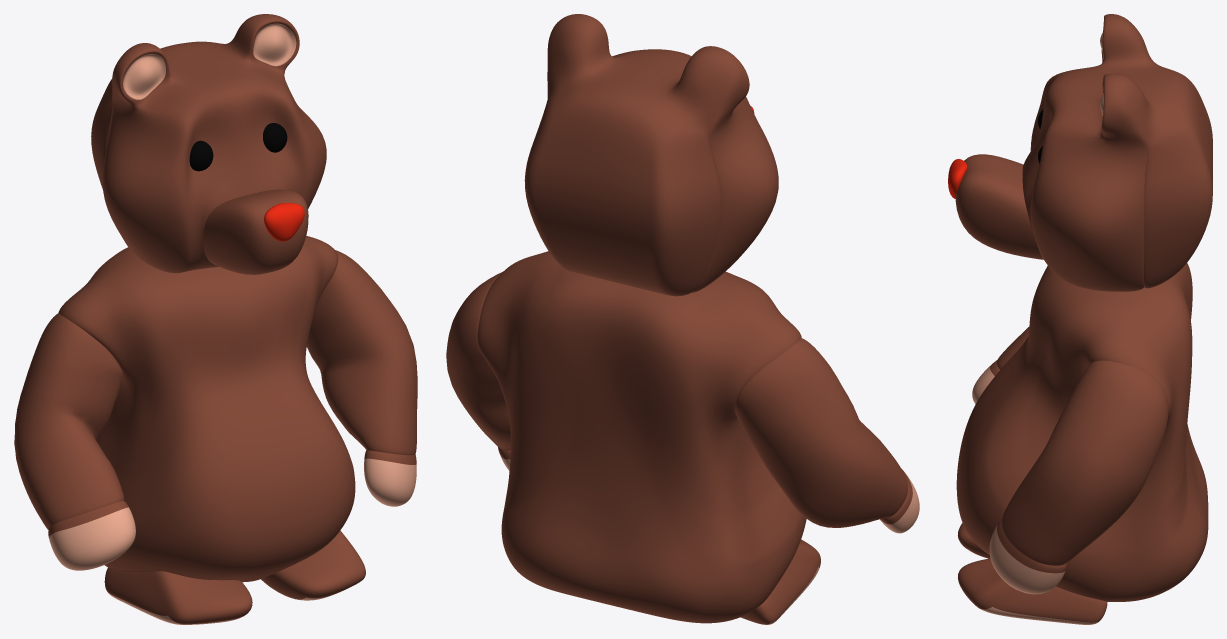
File: Simple_Teddy_Bear.fbx
3 renders of one model, left to right at view 1: azimuth 30°, elevation 25°; view 2: azimuth 150°, elevation 25°; view 3: azimuth 270°, elevation 25°, orthographic. The views are drawn at different scales.
Visible parts, largest first — view 1: BEAR DOLL; view 2: BEAR DOLL; view 3: BEAR DOLL.
Boxes of the visible parts, bbox=[...] form: BEAR DOLL: bbox=[14, 14, 417, 624]; BEAR DOLL: bbox=[446, 14, 919, 624]; BEAR DOLL: bbox=[948, 14, 1212, 624].
Bounding box in the file's own units: 105 × 138 × 61.96.
